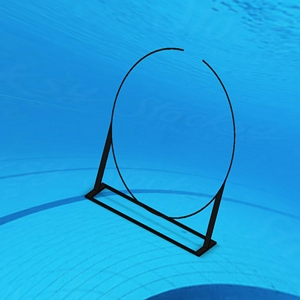circle: (82, 44, 239, 257)
